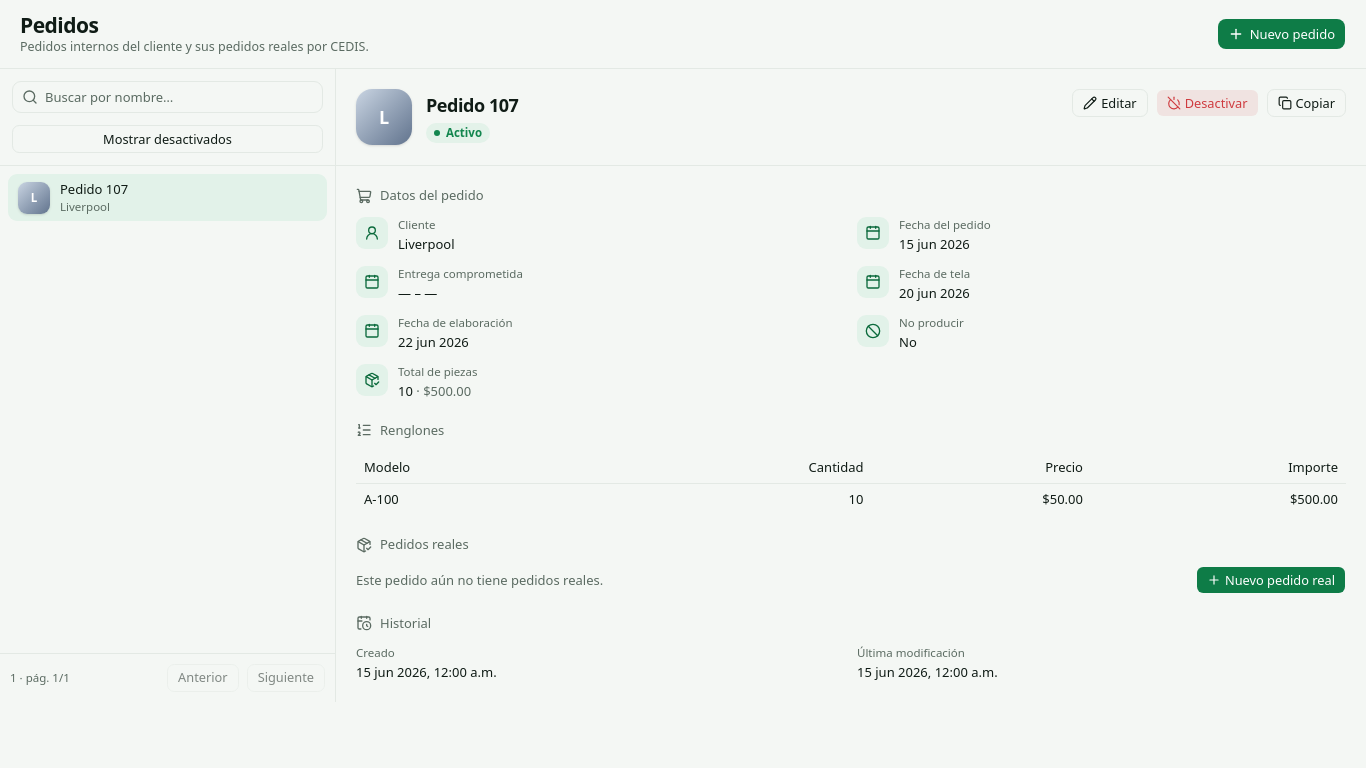
Test case: <PedidosPagina> › ⭐ cancelar dice la verdad sobre las OPs (V1-E4) › marcada SIN motivo no deja confirmar (toda OP cancelada lleva su porqué)
The image size is (1366, 768).
Click the button with test id "desactivar-pedido" at (1207, 103), box [1156, 89, 1258, 117]
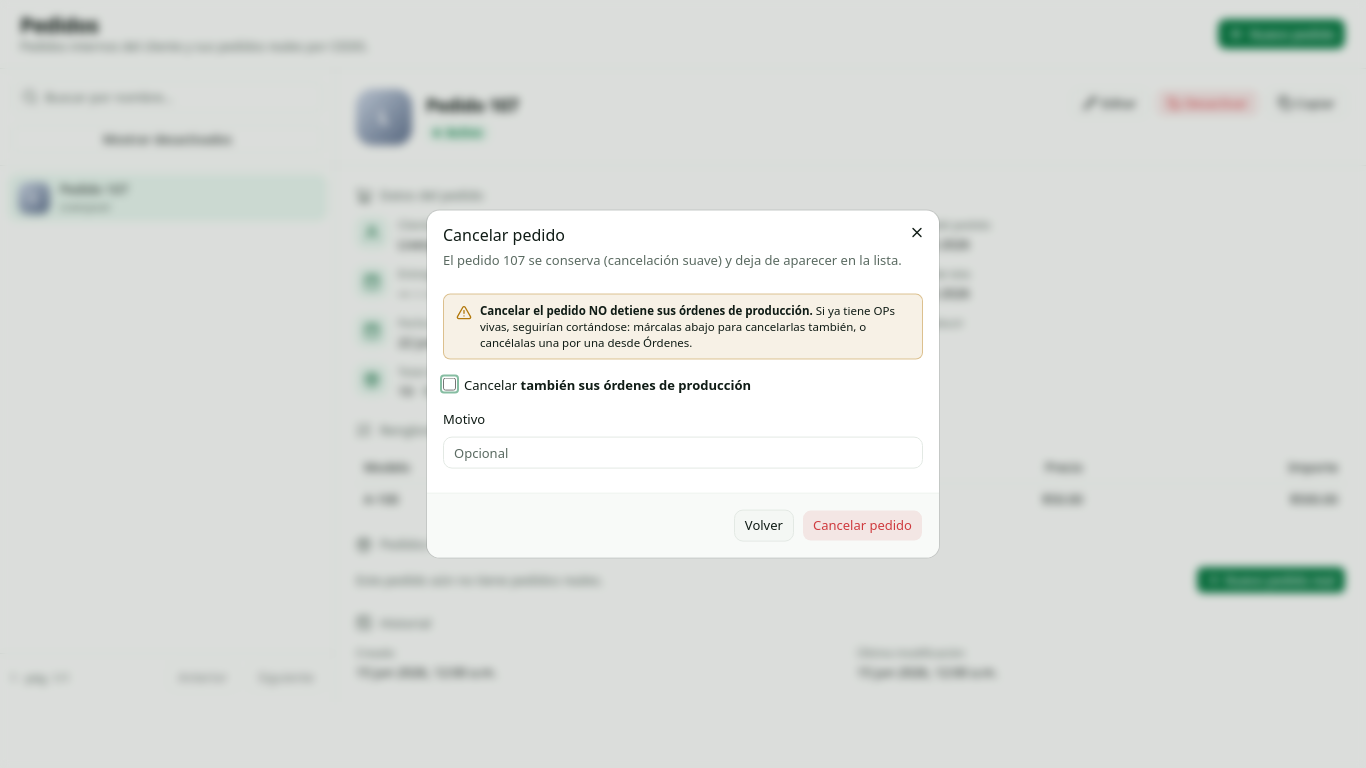
Click the checkbox with test id "cancelar-tambien-ordenes" at (450, 384), box [443, 378, 456, 391]
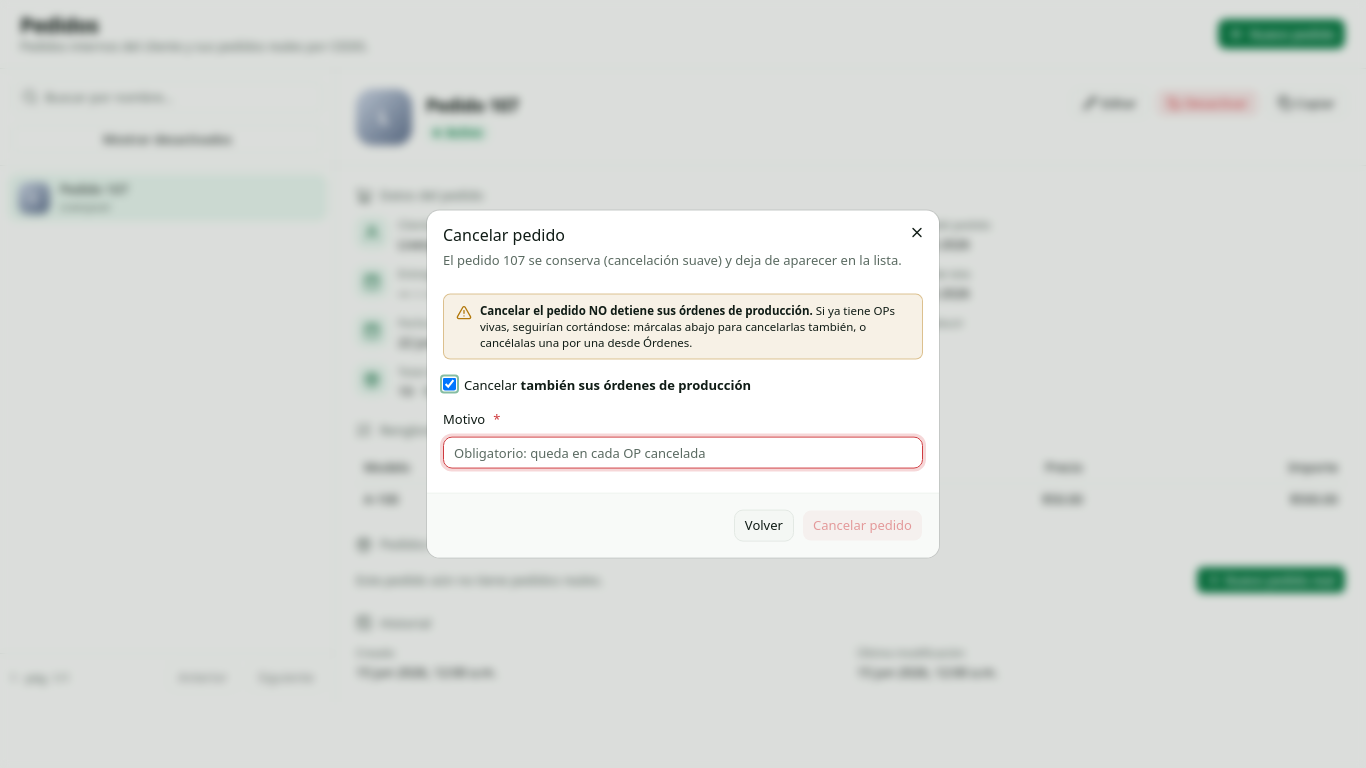
Expected: the button with test id "confirmar-cancelar-pedido" is disabled, [802, 509, 923, 541]
